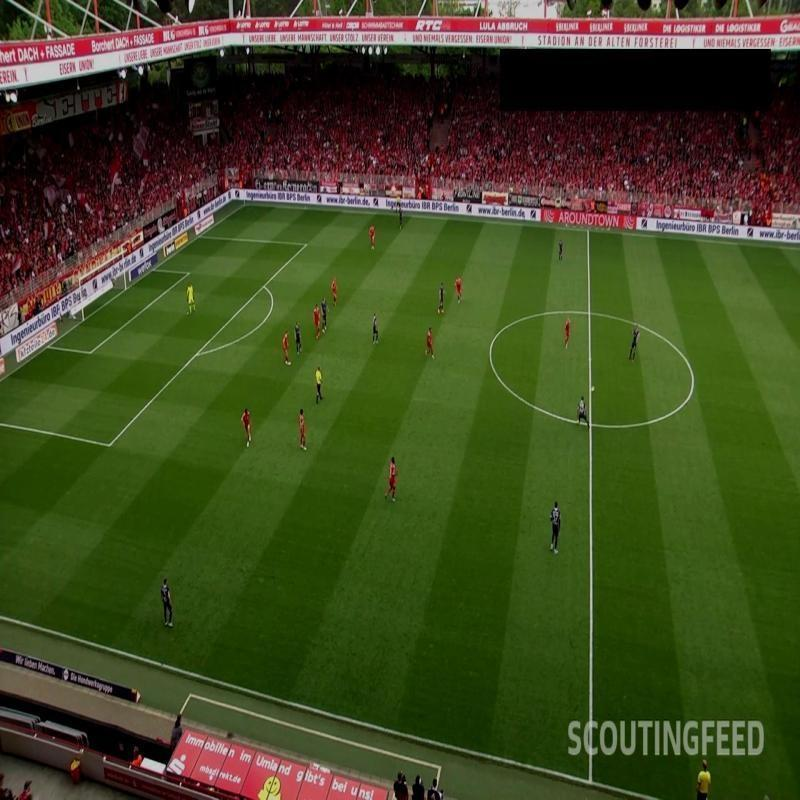1: (239, 198, 252, 212)
10: (257, 280, 271, 294)
11: (190, 349, 204, 362)
12: (102, 438, 116, 453)
13: (580, 222, 594, 236)
14: (582, 304, 596, 320)
15: (584, 416, 598, 433)
16: (581, 774, 600, 790)
2: (192, 231, 206, 244)
3: (145, 264, 159, 278)
4: (42, 340, 55, 354)
7: (182, 264, 196, 278)
8: (82, 346, 96, 360)
9: (299, 237, 312, 250)
c: (484, 341, 498, 357), (684, 374, 698, 388)
